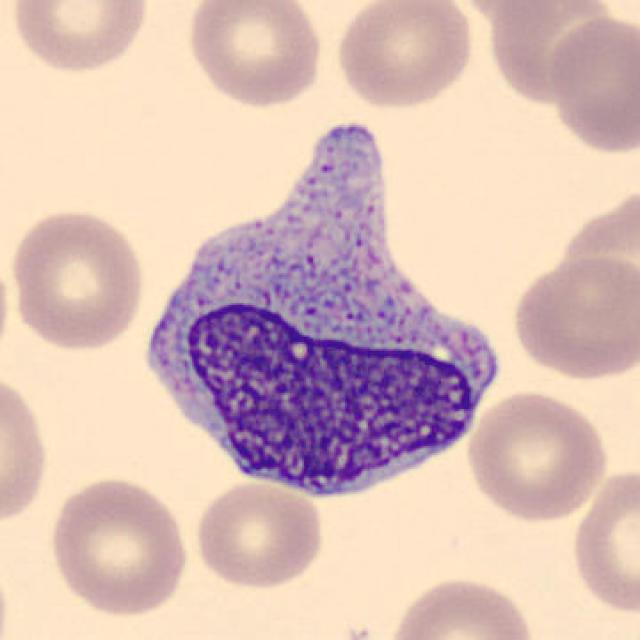Monocyte: (126, 108, 510, 508)
RBC: (44, 472, 192, 619), (5, 205, 150, 352), (462, 386, 612, 526), (507, 254, 638, 382), (331, 0, 478, 111), (181, 0, 327, 111), (190, 476, 327, 591), (542, 10, 638, 157), (556, 183, 640, 322), (7, 0, 153, 76), (567, 464, 638, 617), (382, 573, 540, 640), (0, 366, 53, 532), (452, 0, 590, 25)
